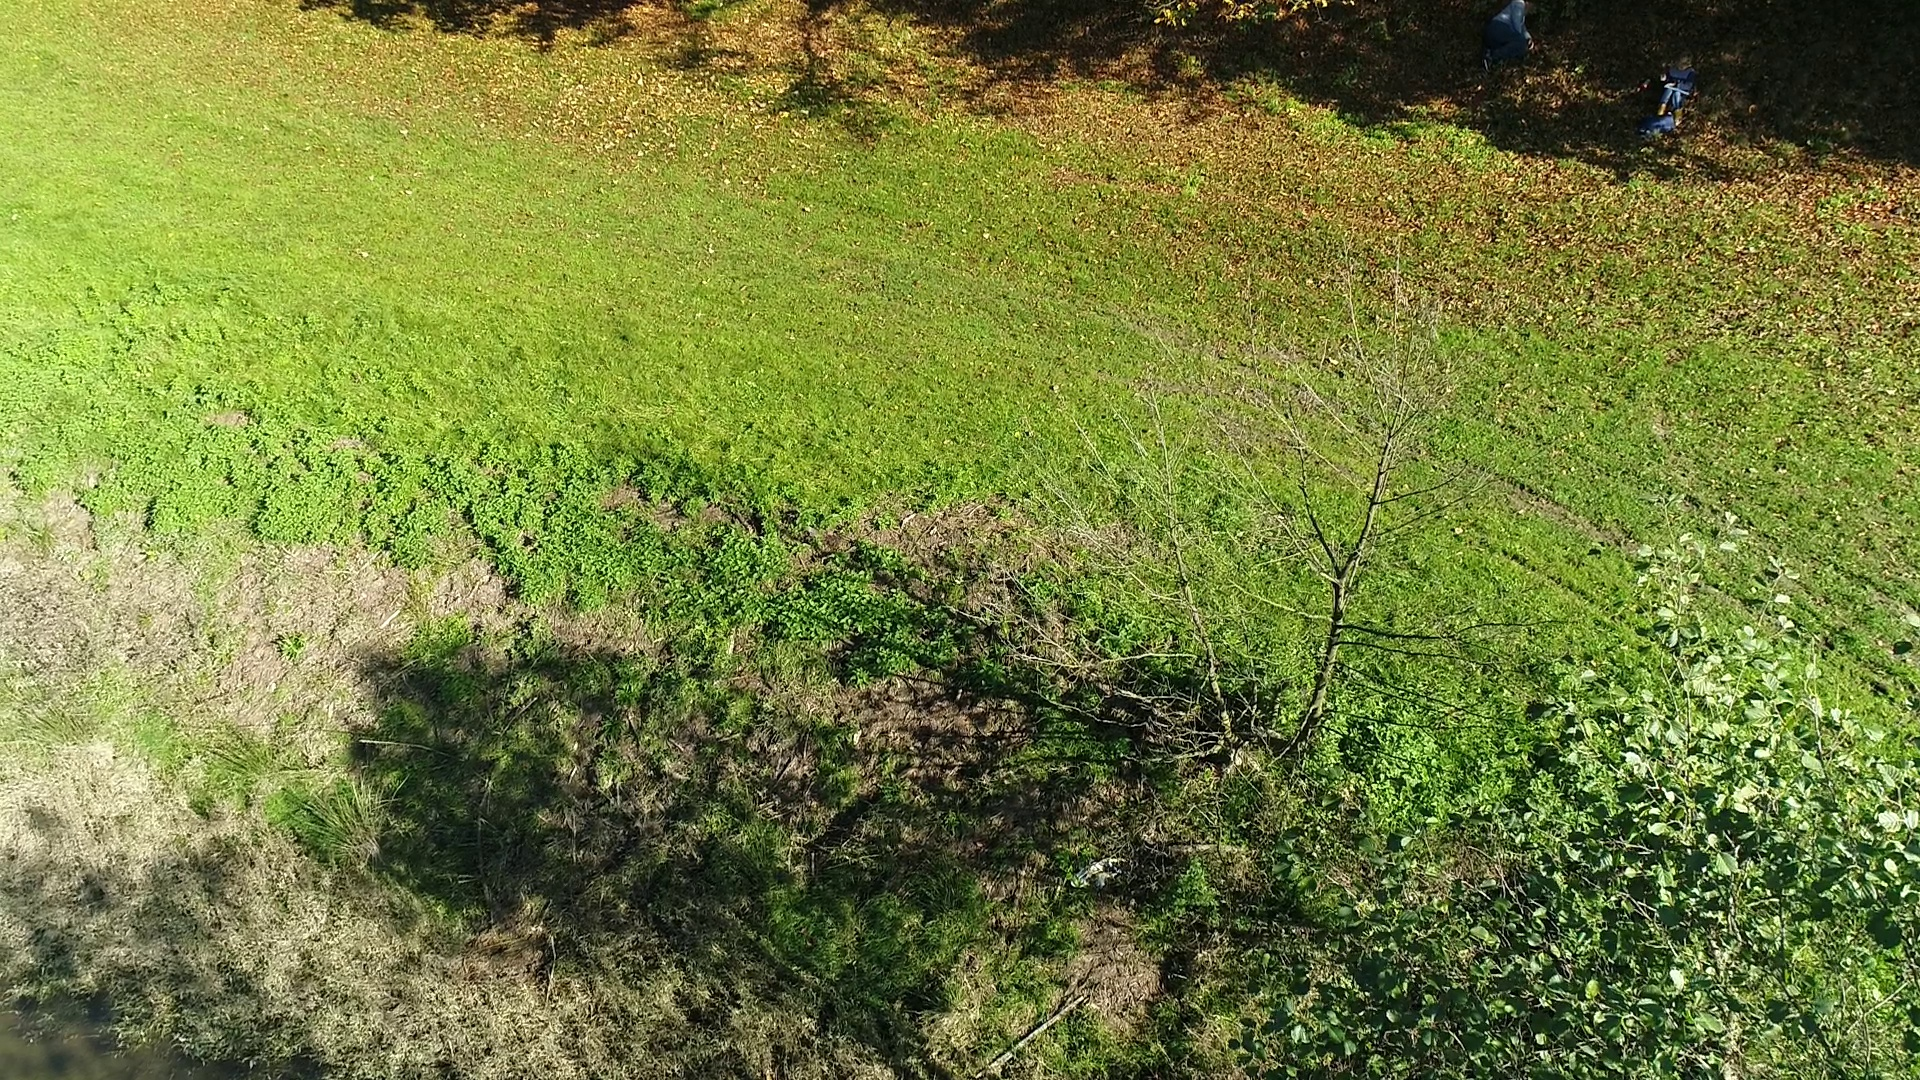person: (1482, 1, 1535, 71), (1657, 49, 1695, 128)
